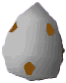egg: (1, 1, 66, 82)
